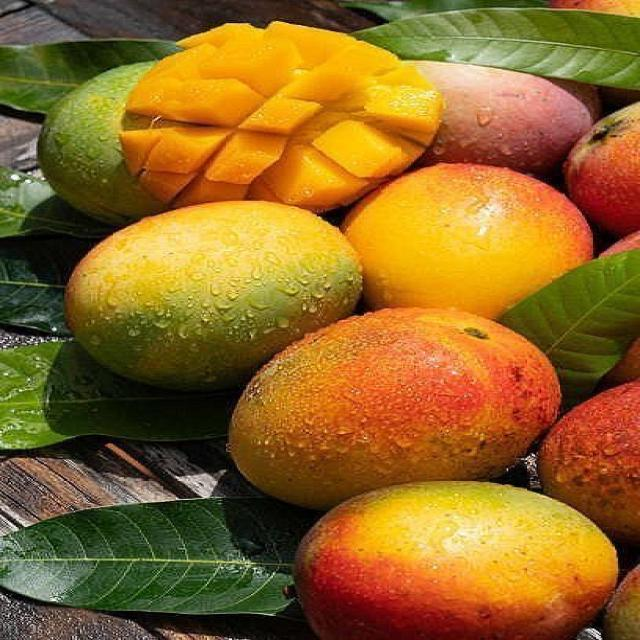mango: (41, 22, 442, 221), (230, 309, 559, 508), (66, 201, 360, 390), (295, 482, 618, 639), (342, 165, 592, 317), (413, 61, 600, 178), (38, 63, 166, 224), (539, 381, 639, 544), (565, 103, 639, 236), (604, 567, 639, 639), (604, 338, 639, 384)
